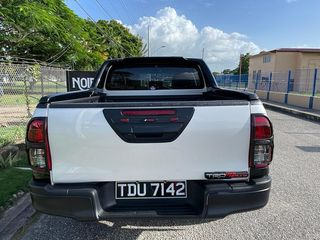License-Plate: (115, 181, 185, 197)
